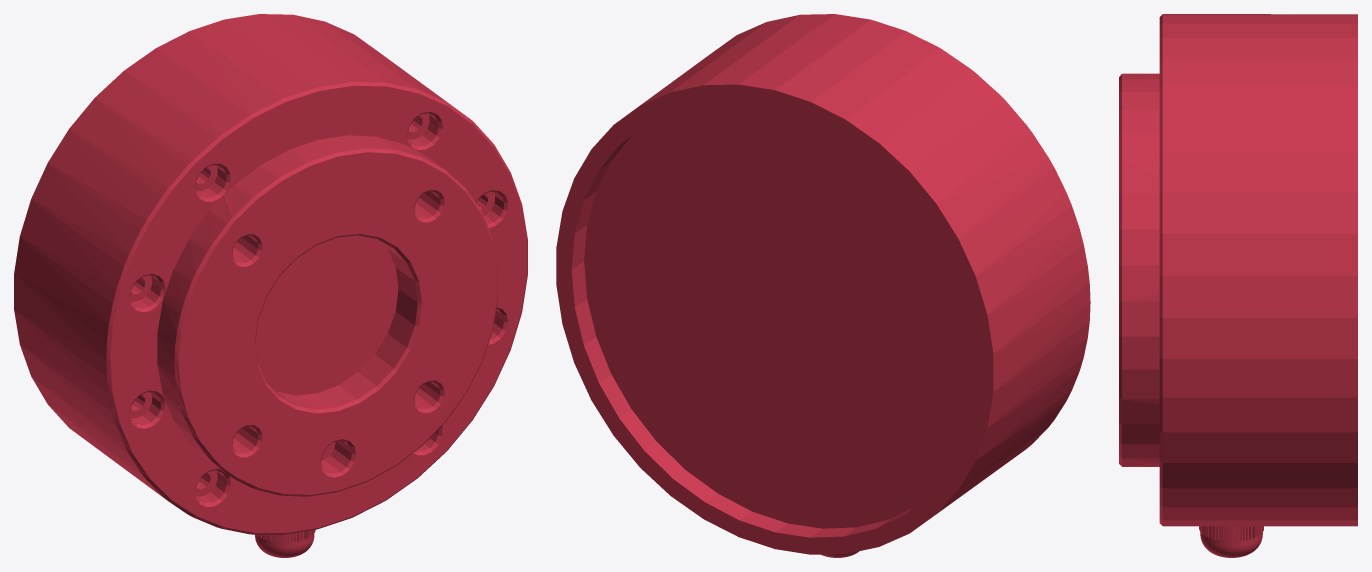
The picture shows the model from 3 angles, left to right: view 1: azimuth 30°, elevation 25°; view 2: azimuth 150°, elevation 25°; view 3: azimuth 270°, elevation 25°; orthographic projection. The views are drawn at different scales.
Parts seen in each view (by area): view 1: Link6-mesh; view 2: Link6-mesh; view 3: Link6-mesh.
Boxes of the visible parts, bbox=[...] form: Link6-mesh: bbox=[14, 14, 527, 557]; Link6-mesh: bbox=[556, 14, 1090, 557]; Link6-mesh: bbox=[1119, 14, 1357, 557].
Bounding box in the file's own units: 0.0819 × 0.0905 × 0.0382.
